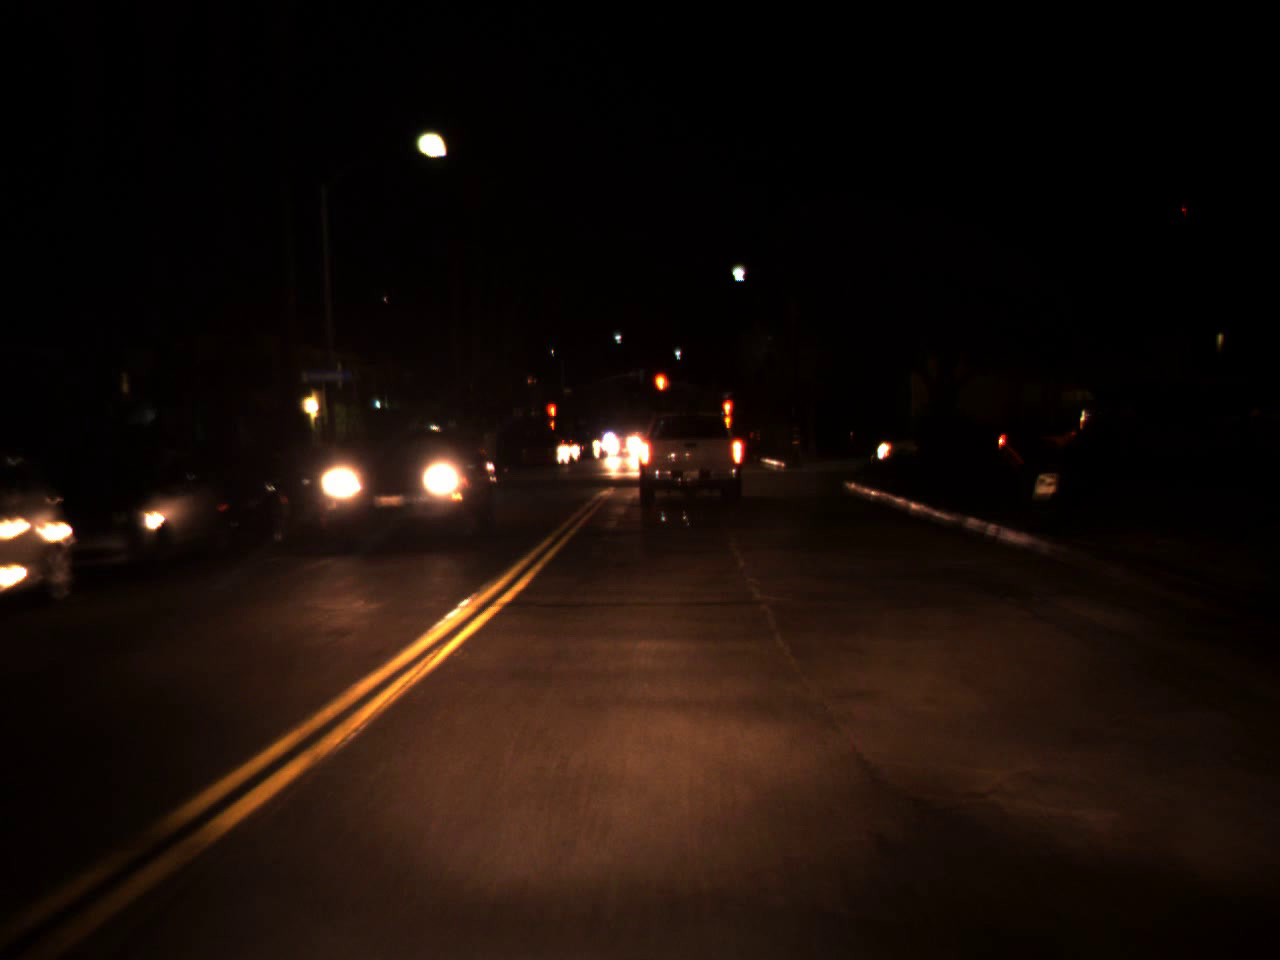stop: (651, 370, 670, 413), (546, 401, 558, 433), (721, 401, 733, 428)
